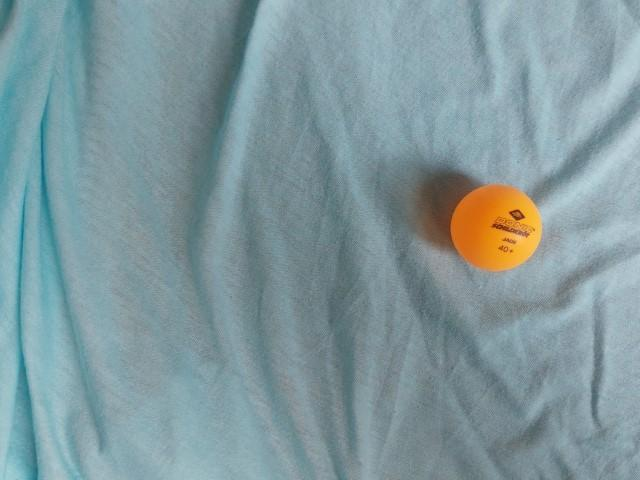oball: (446, 176, 550, 281)
